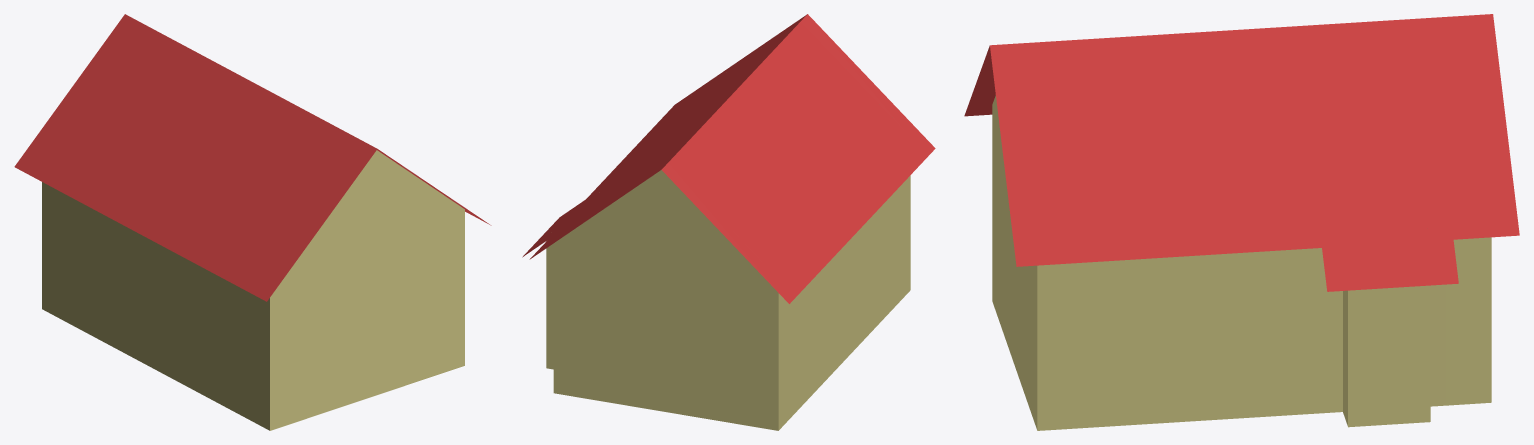
3 views of the same model, side by side, from view 1: azimuth 30°, elevation 25°; view 2: azimuth 150°, elevation 25°; view 3: azimuth 270°, elevation 25° (orthographic). The views are drawn at different scales.
Size of the model in its own units: 17.37 by 22.44 by 14.3.
